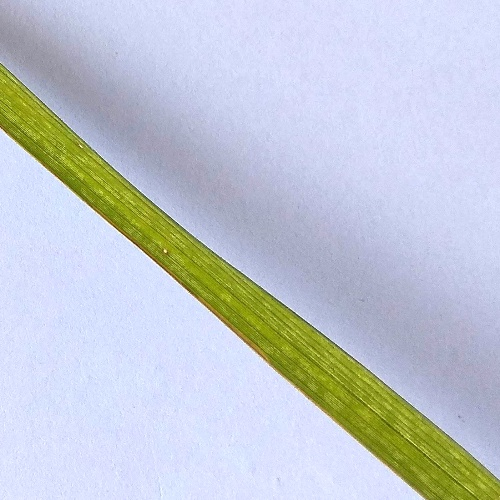Busuk Leher: (69, 133, 88, 154), (159, 245, 174, 257)
